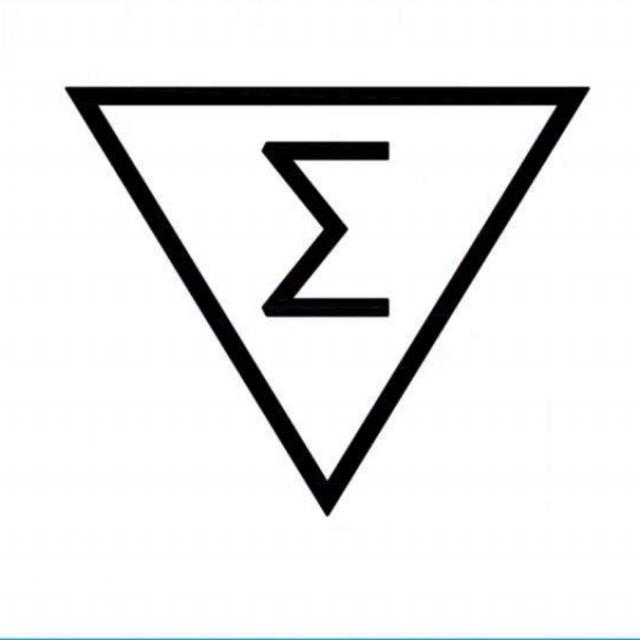Contains sufficient for -n- tests: (62, 83, 592, 524)
